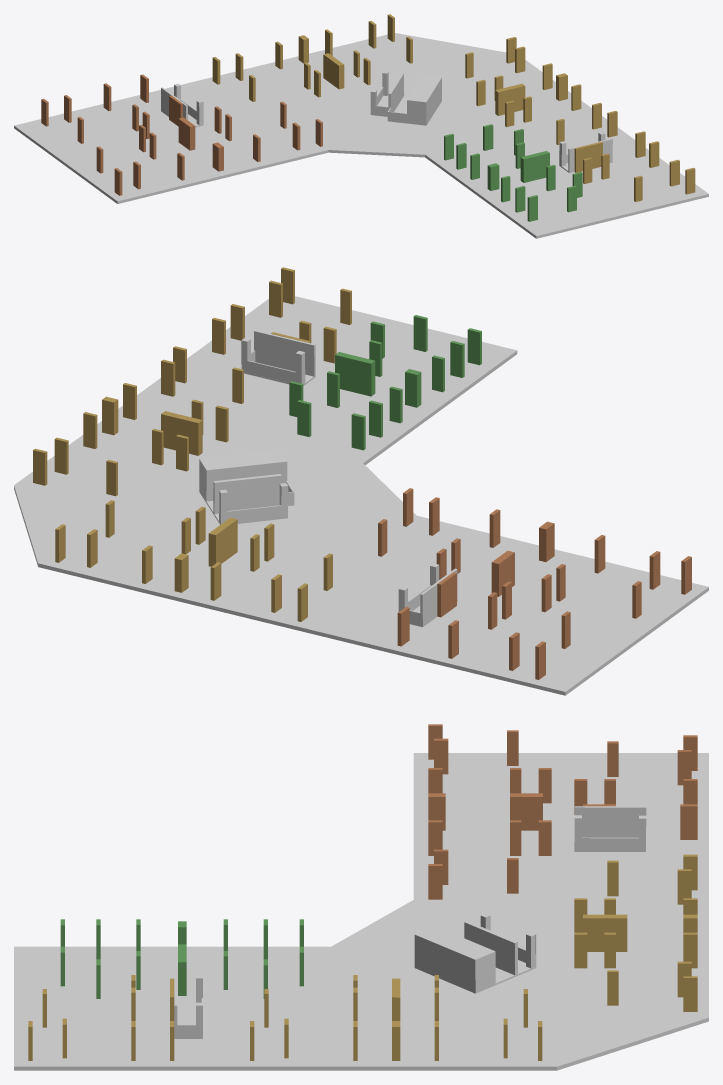
File: cluster1VoidDeck.glb
The picture shows the model from 3 angles, top to bottom: view 1: azimuth 30°, elevation 25°; view 2: azimuth 150°, elevation 25°; view 3: azimuth 270°, elevation 25°; orthographic projection. The views are drawn at different scales.
Parts seen in each view (by area): view 1: voiddeckFloor, voiddeck4room, voiddeck5room, voiddeck3room; view 2: voiddeckFloor, voiddeck4room, voiddeck5room, voiddeck3room; view 3: voiddeckFloor, voiddeck4room, voiddeck5room, voiddeck3room.
Boxes of the visible parts, x1=… form: voiddeckFloor: x1=14, y1=33, x2=708, y2=238; voiddeck4room: x1=212, y1=14, x2=695, y2=201; voiddeck5room: x1=41, y1=74, x2=322, y2=195; voiddeck3room: x1=444, y1=124, x2=582, y2=221; voiddeckFloor: x1=14, y1=296, x2=708, y2=695; voiddeck4room: x1=33, y1=267, x2=351, y2=621; voiddeck5room: x1=378, y1=488, x2=691, y2=679; voiddeck3room: x1=289, y1=315, x2=481, y2=450; voiddeckFloor: x1=14, y1=753, x2=708, y2=1070; voiddeck4room: x1=28, y1=854, x2=697, y2=1060; voiddeck5room: x1=428, y1=724, x2=697, y2=899; voiddeck3room: x1=60, y1=919, x2=303, y2=998.
Size of the model in its own units: 51.86 by 2.9 by 48.55.
